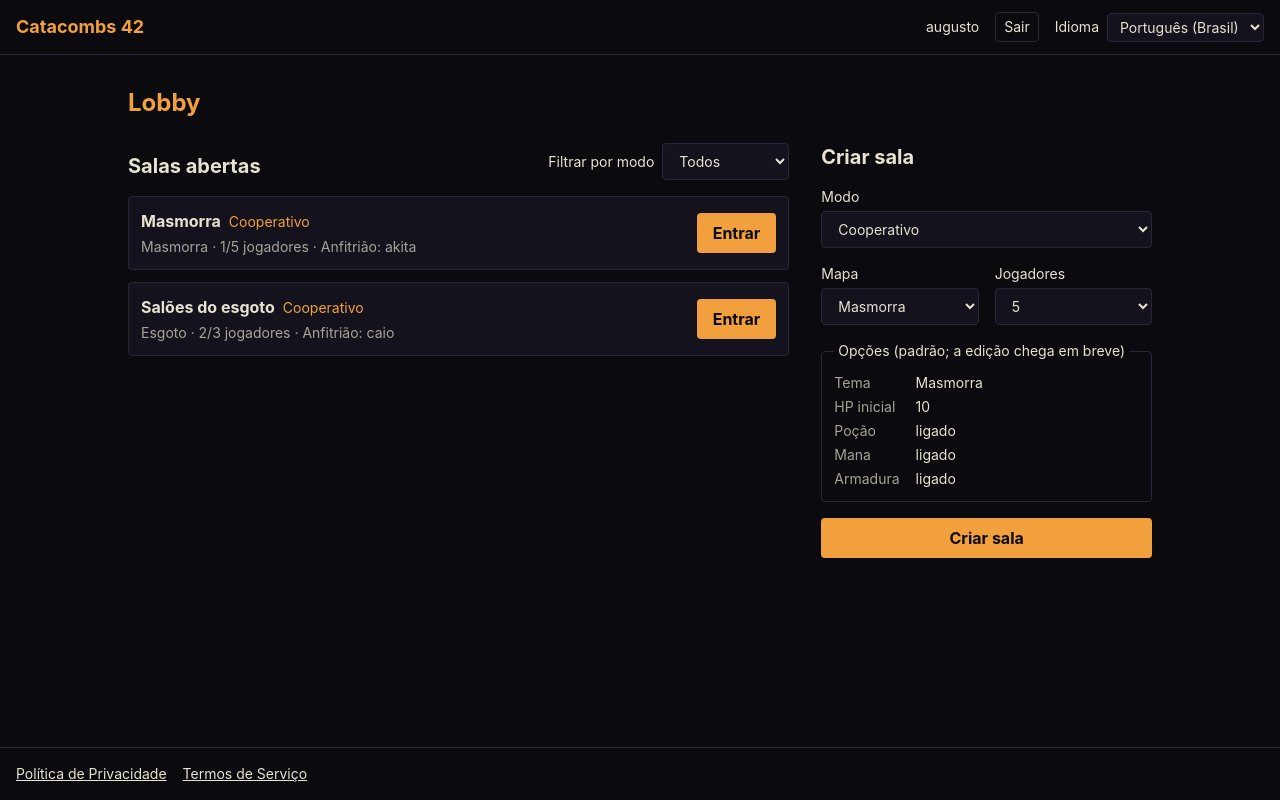
Scenario: criar Room › mostra os defaults e cria sem mexer em nada, mandando só mode, map e vagas
expect the element "Salas abertas" is shown: met, box [128, 143, 789, 356]
expect the dropdown labelled "Mapa" shows "Masmorra": met, box [821, 288, 979, 325]
Click the button "Criar sala". click: x=987, y=538
box: [821, 518, 1152, 558]
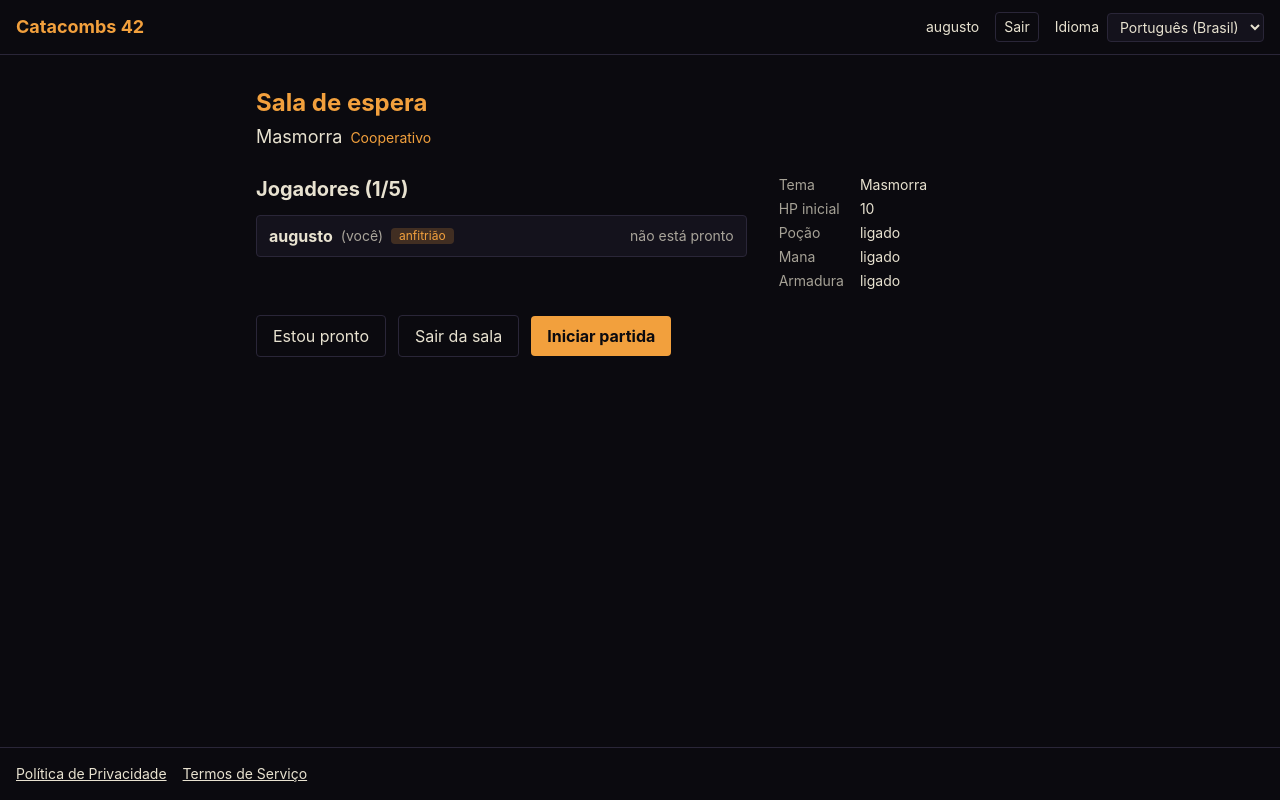
expect the button "Iniciar partida" is shown: met, box [531, 316, 671, 356]
